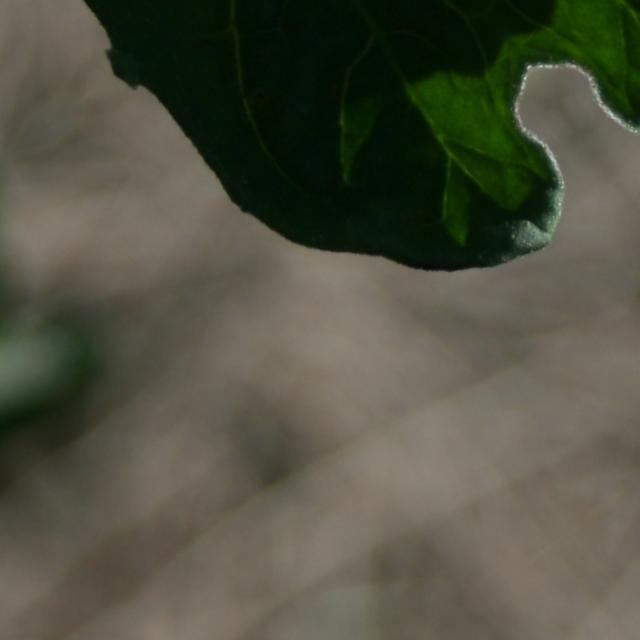Tomato leaf: (72, 0, 619, 419), (351, 0, 640, 443)
